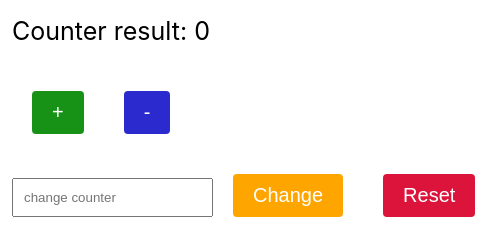
it: Counter component › should decrement counter from 0 to -1 when default counter is 0
Expected: the text with test id "counter" reads "0", [194,16,210,46]
Click the button with test id "sub-btn" at (147, 112), box [124,91,170,134]
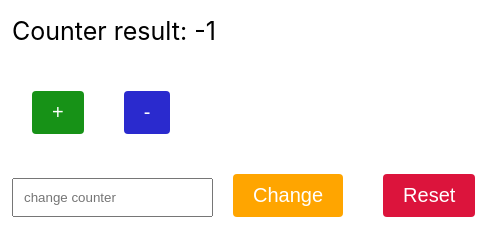
Expected: the text with test id "counter" reads "-1", [194,16,216,46]
